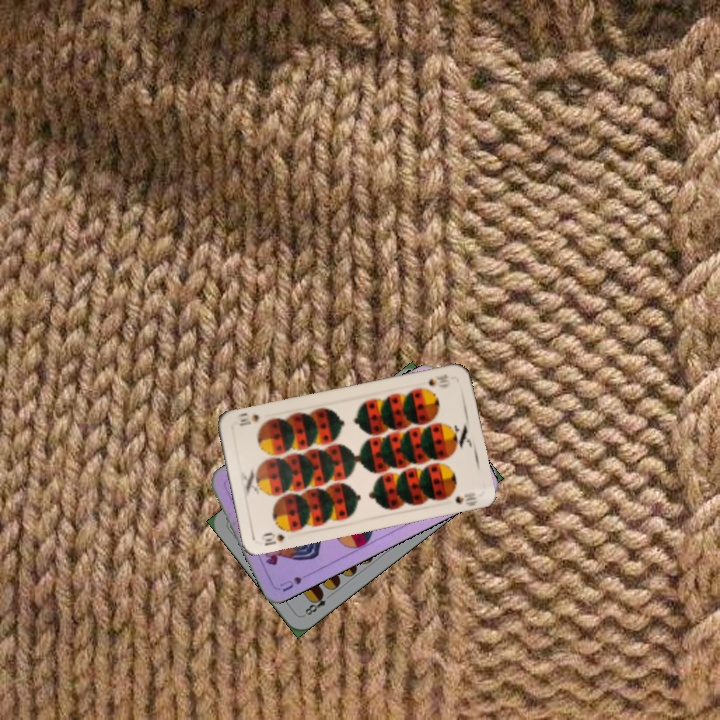E8: (299, 588, 334, 619)
S10: (257, 528, 287, 548), (424, 370, 453, 389)
SU: (275, 568, 315, 595)
